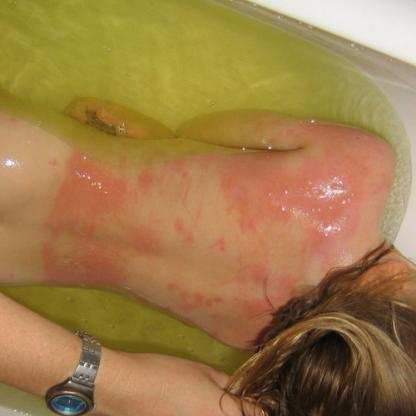Bed Bug: (266, 126, 388, 265), (38, 243, 124, 290), (228, 263, 263, 353), (127, 160, 190, 204), (43, 206, 124, 240), (176, 287, 224, 340), (193, 152, 265, 186), (78, 154, 126, 204), (216, 187, 264, 229), (264, 268, 298, 326), (208, 230, 262, 262), (44, 152, 76, 204), (170, 206, 204, 249), (127, 222, 156, 262), (124, 291, 158, 313), (159, 280, 175, 316), (6, 117, 20, 128), (3, 273, 19, 282)
